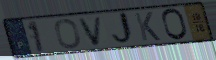1: (26, 19, 47, 53)
J: (111, 10, 137, 48)
K: (133, 11, 163, 42)
O: (160, 8, 190, 42), (53, 17, 83, 50)
V: (78, 15, 104, 48)
